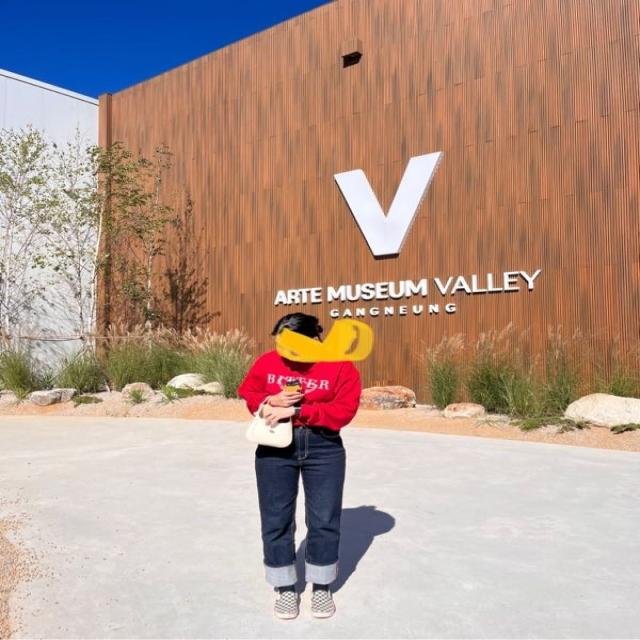denimpants: (256, 426, 346, 592)
mtm: (235, 355, 362, 448)
